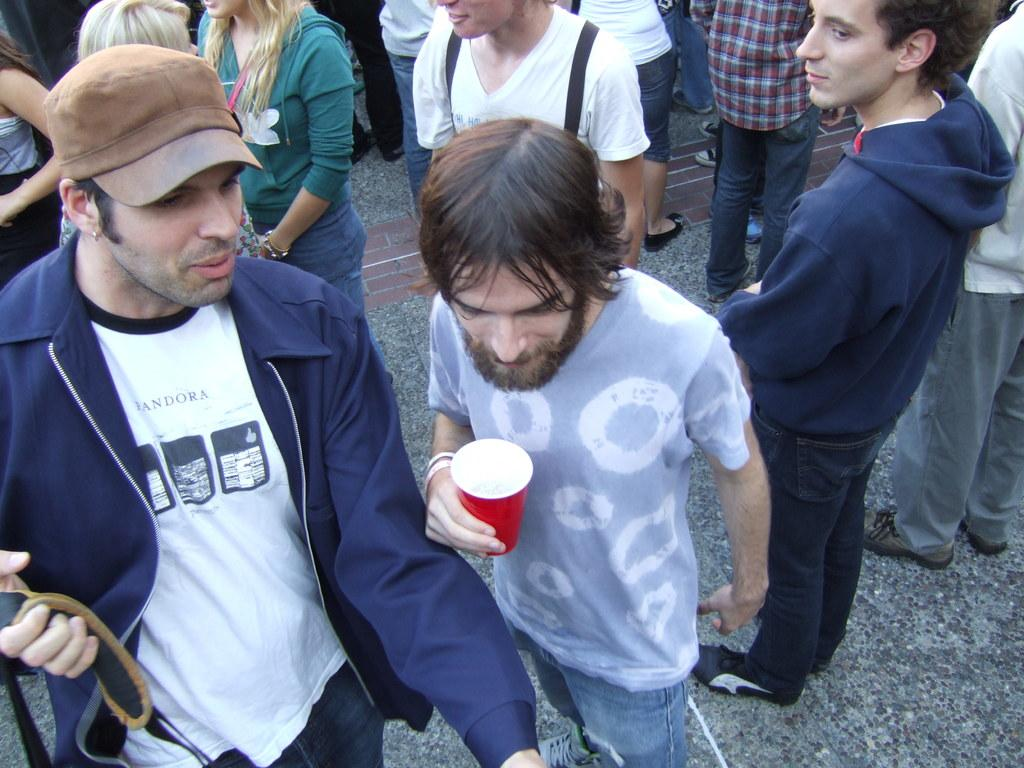Hat: (44, 39, 266, 208)
